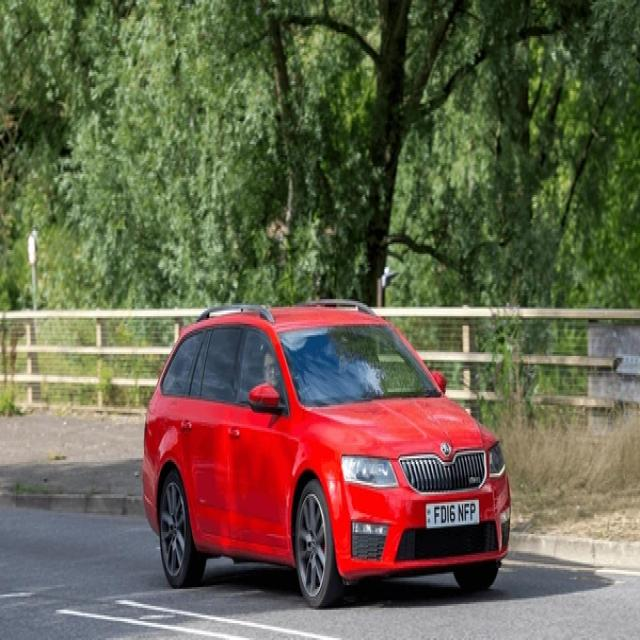skoda: (440, 438, 451, 457)
